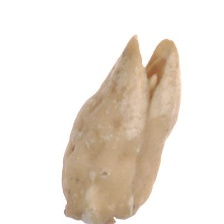L1: (132, 31, 176, 106), (58, 202, 114, 224)
L2: (61, 34, 183, 224)
